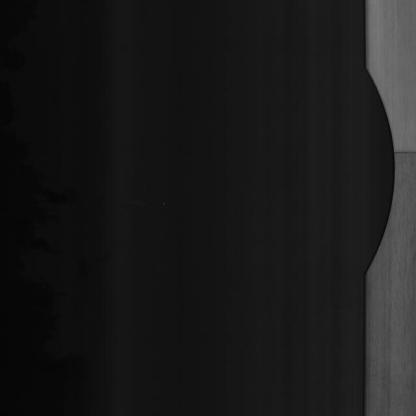crescent_gap: (356, 59, 400, 293)
